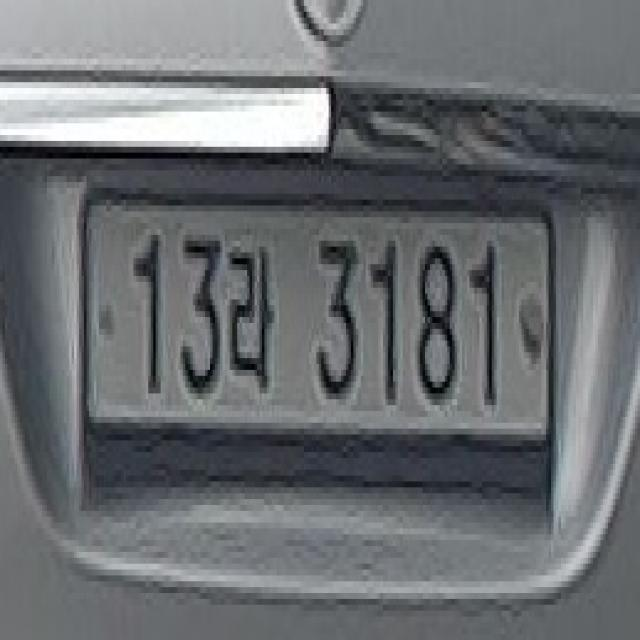1: (467, 233, 505, 423), (132, 225, 166, 408), (370, 223, 400, 422)
3: (176, 230, 224, 404), (316, 216, 360, 405)
8: (411, 236, 458, 414)
la: (227, 228, 280, 404)
license_plate: (76, 197, 554, 455)
